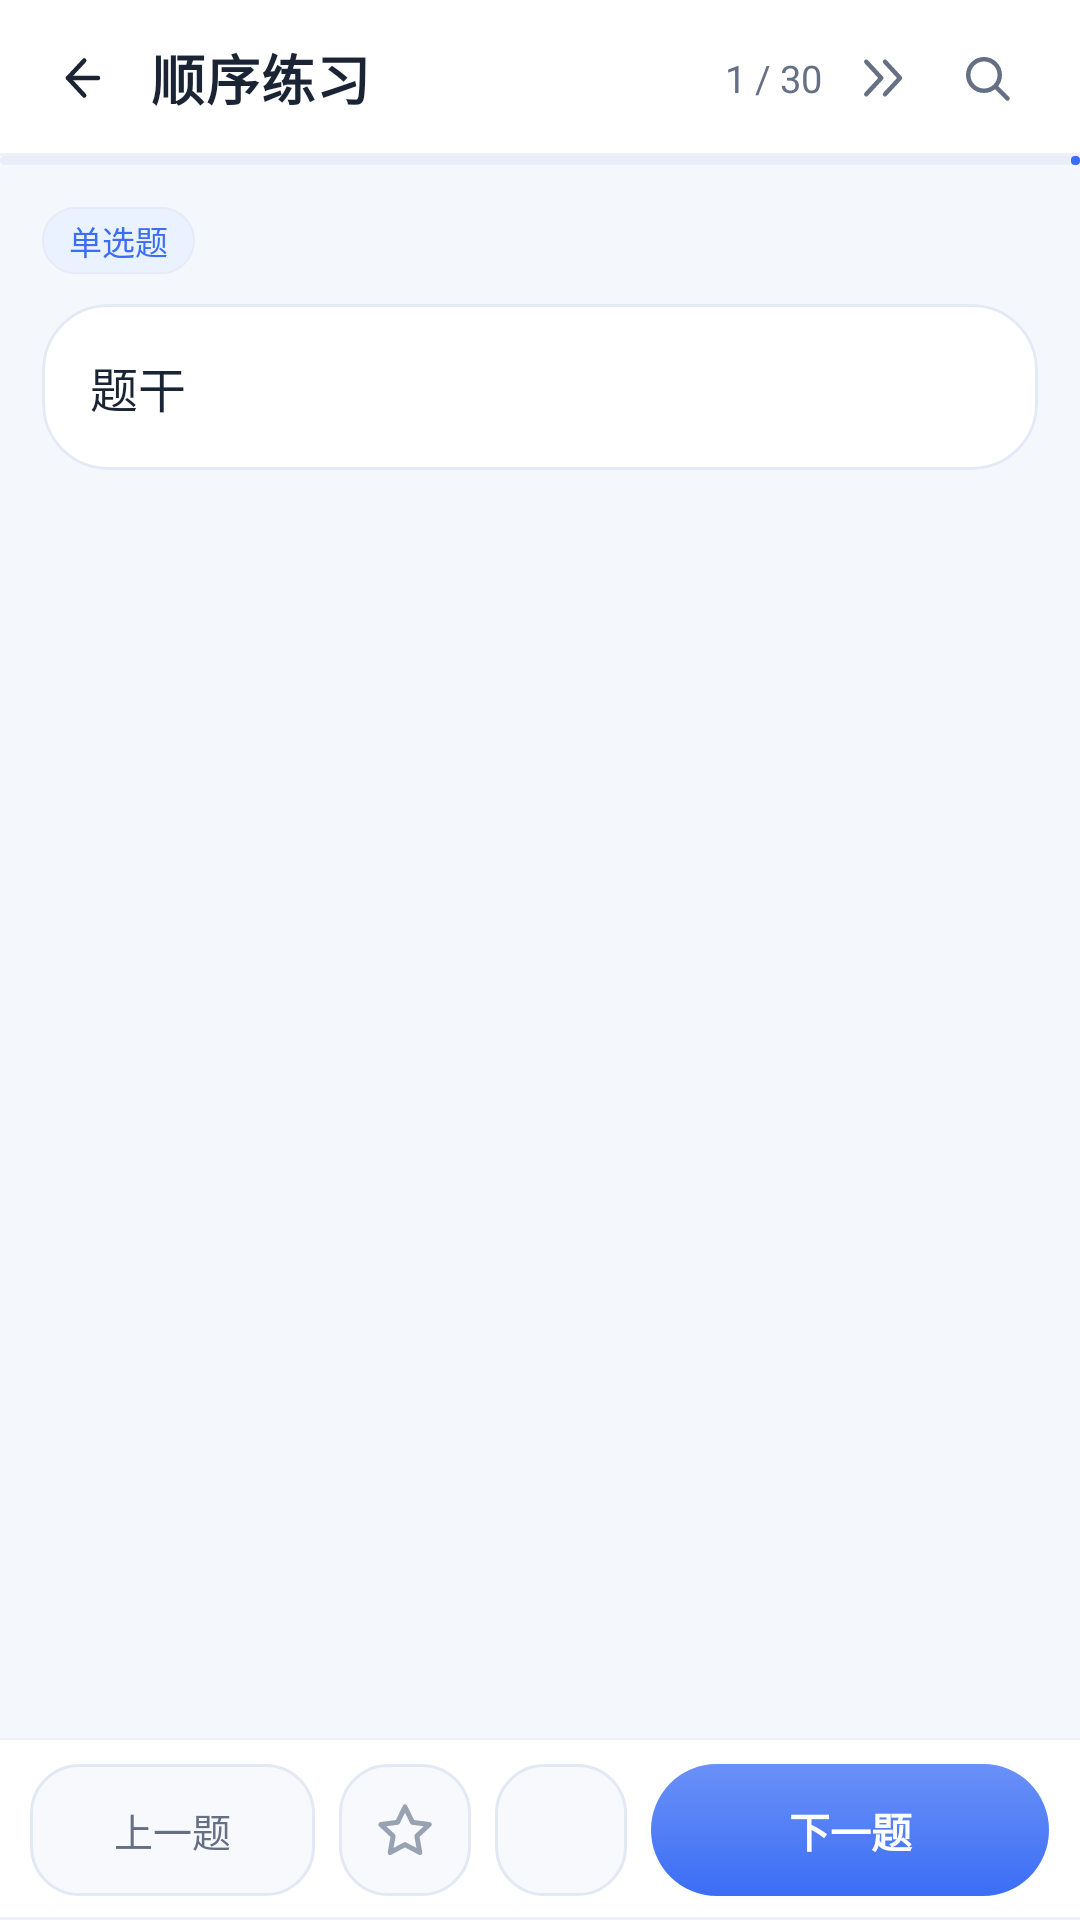

Named icons in this screenshot (1080w x 1920h) and their centers, [x,y]:
back: [82,78]
star: [405,1830]
搜题: [988,79]
跳题: [883,78]
